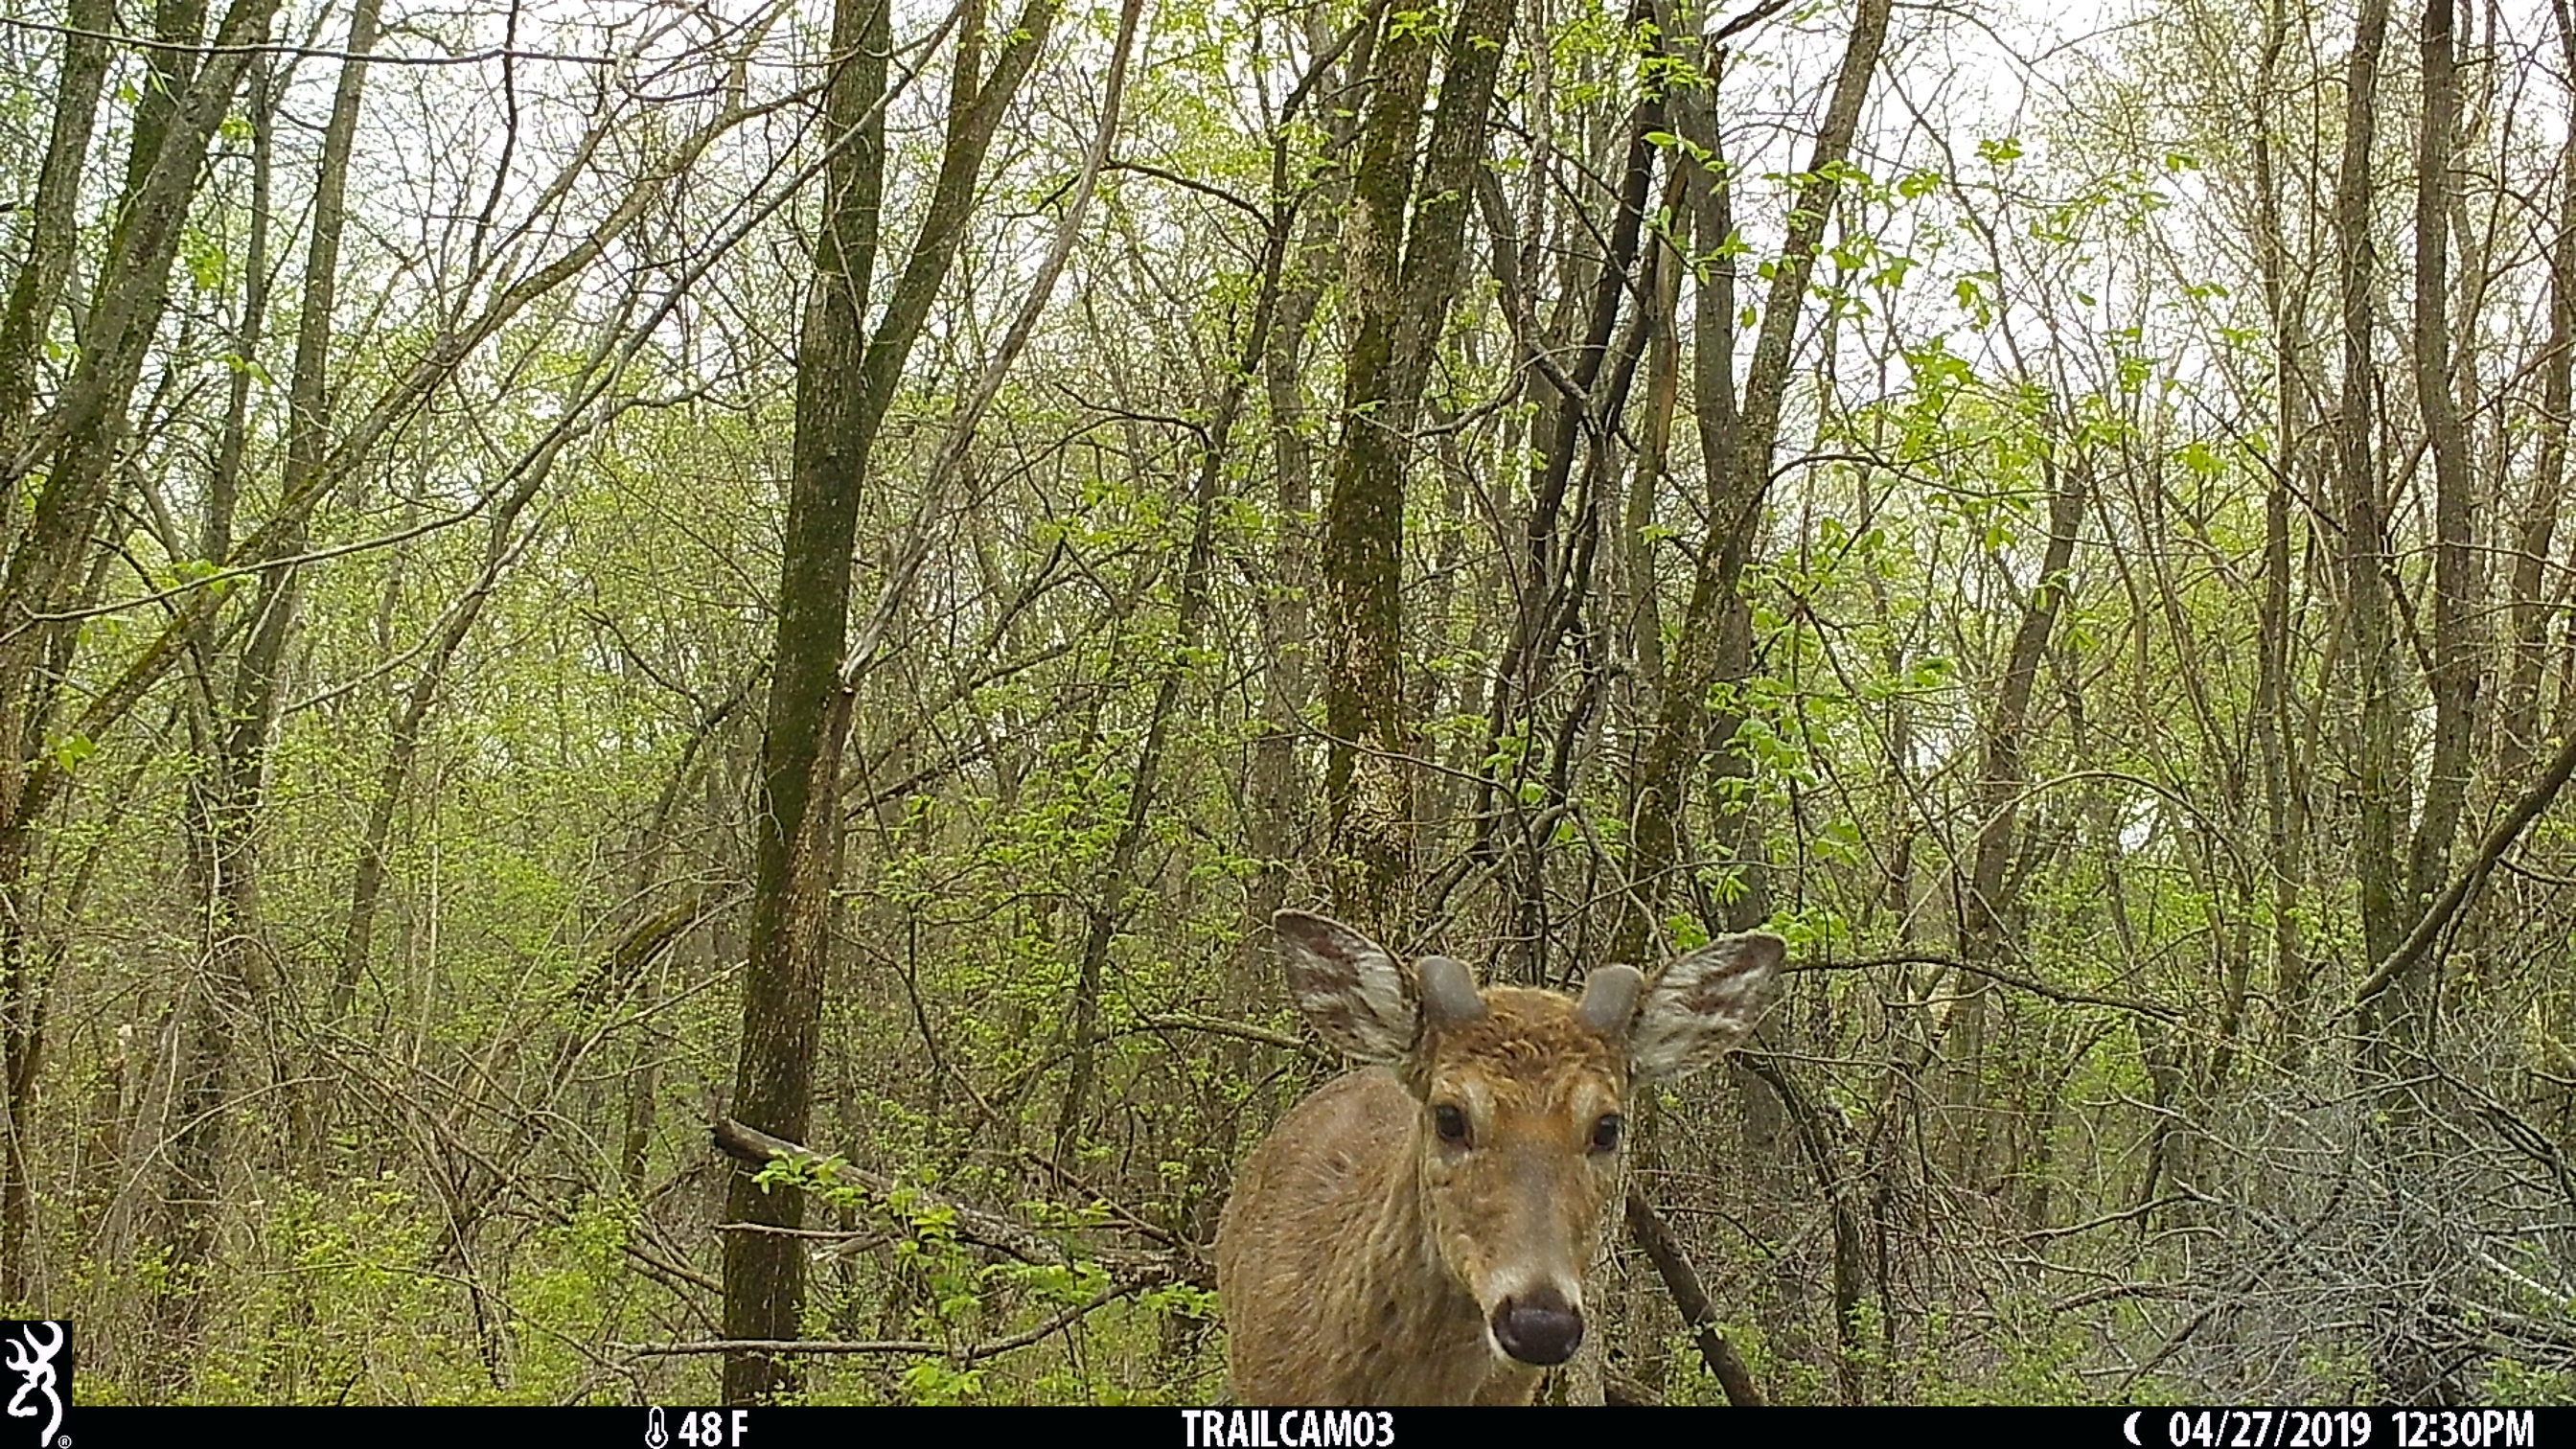DeerBuck: (1215, 909, 1790, 1412)
DeerBuckHead: (1268, 909, 1793, 1376)
